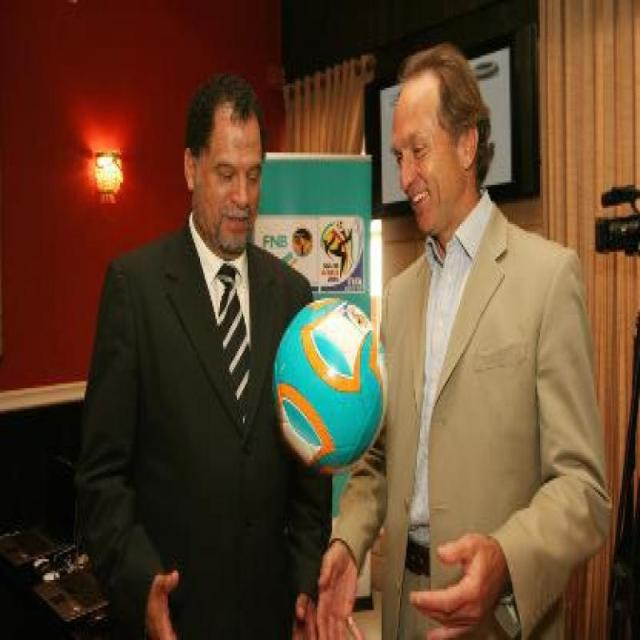volleyball: (270, 296, 388, 474)
